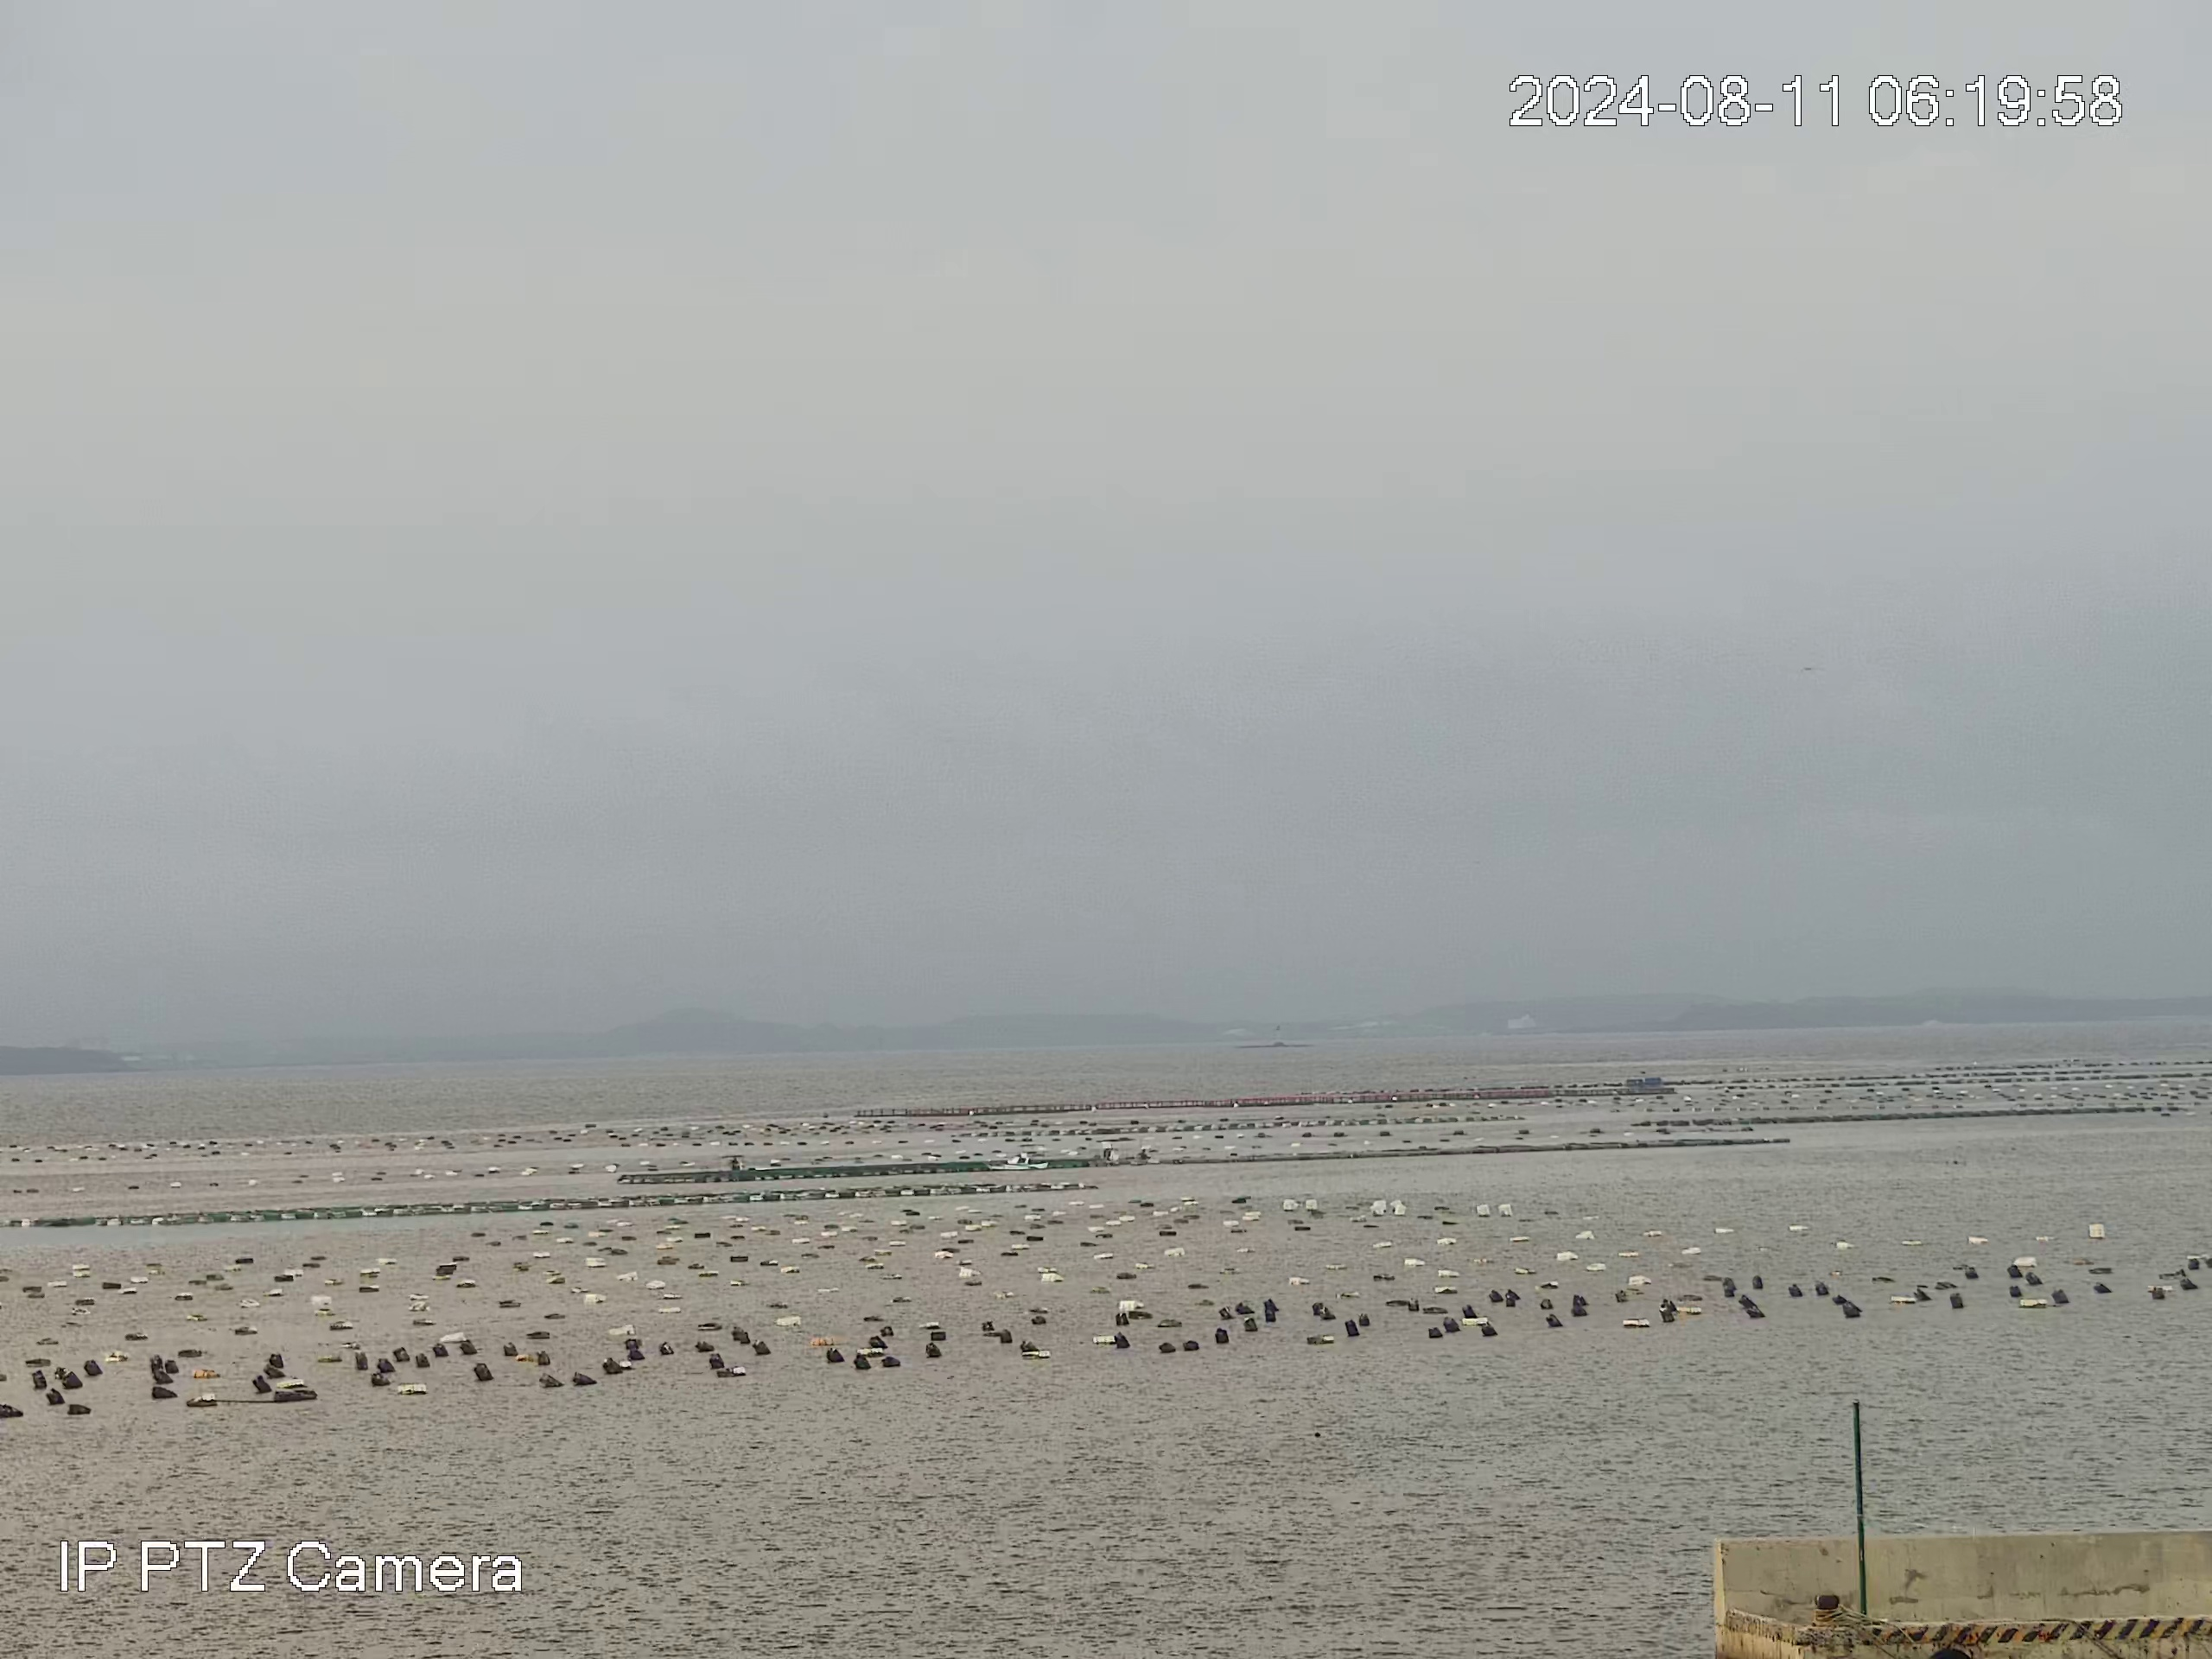boat: (981, 1150, 1049, 1173)
